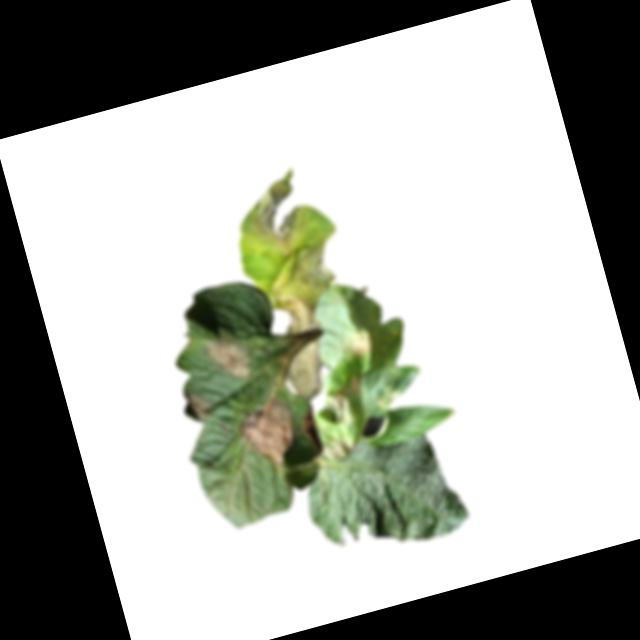Late_blight: (231, 165, 316, 258), (260, 239, 343, 316), (231, 392, 305, 474), (277, 337, 332, 405), (201, 327, 257, 391), (277, 302, 323, 342), (293, 403, 325, 456), (321, 388, 356, 429), (179, 387, 212, 427), (343, 330, 375, 363), (319, 439, 354, 465), (342, 374, 364, 399)
healthy: (294, 421, 473, 571)
